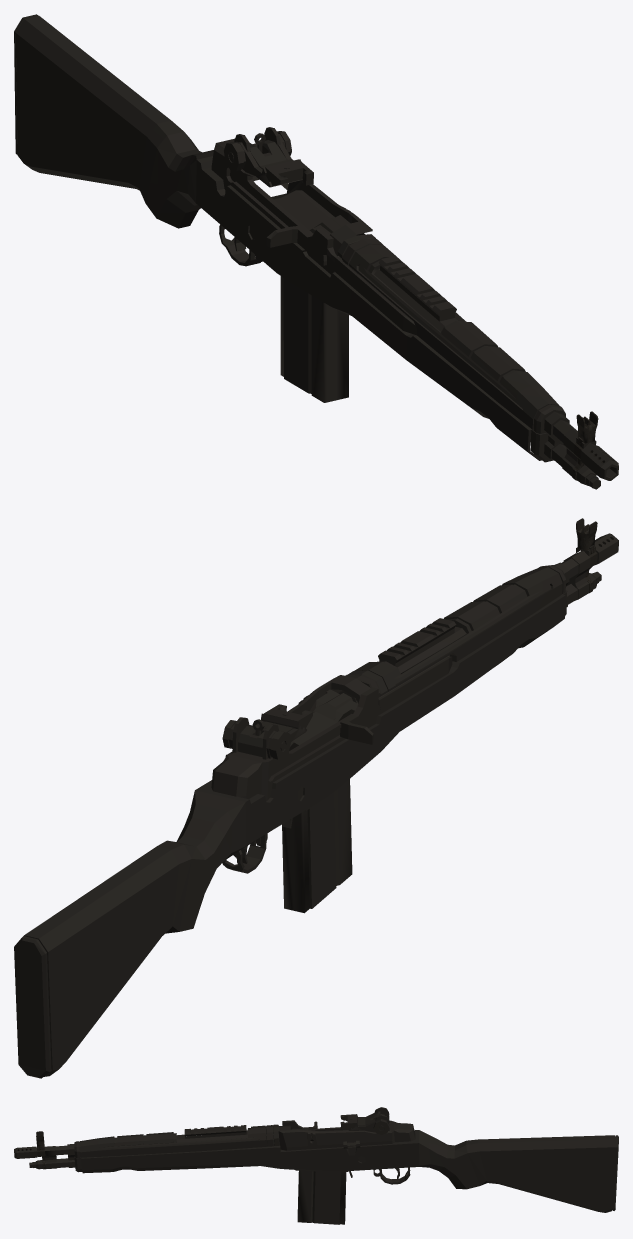
File: item.weapon.drift_scout_rifle.glb
The picture shows the model from 3 angles, top to bottom: view 1: azimuth 30°, elevation 25°; view 2: azimuth 150°, elevation 25°; view 3: azimuth 270°, elevation 25°; orthographic projection. The views are drawn at different scales.
Visible parts, largest first — view 1: Cylinder_007; view 2: Cylinder_007; view 3: Cylinder_007.
Part boxes in pixels (<box>): Cylinder_007: <box>14,14,618,489</box>; Cylinder_007: <box>14,518,618,1078</box>; Cylinder_007: <box>14,1107,618,1224</box>.
Bounding box in the file's own units: 0.0978 × 0.241 × 1.19.
Materials: 12 (12 with a texture image).
